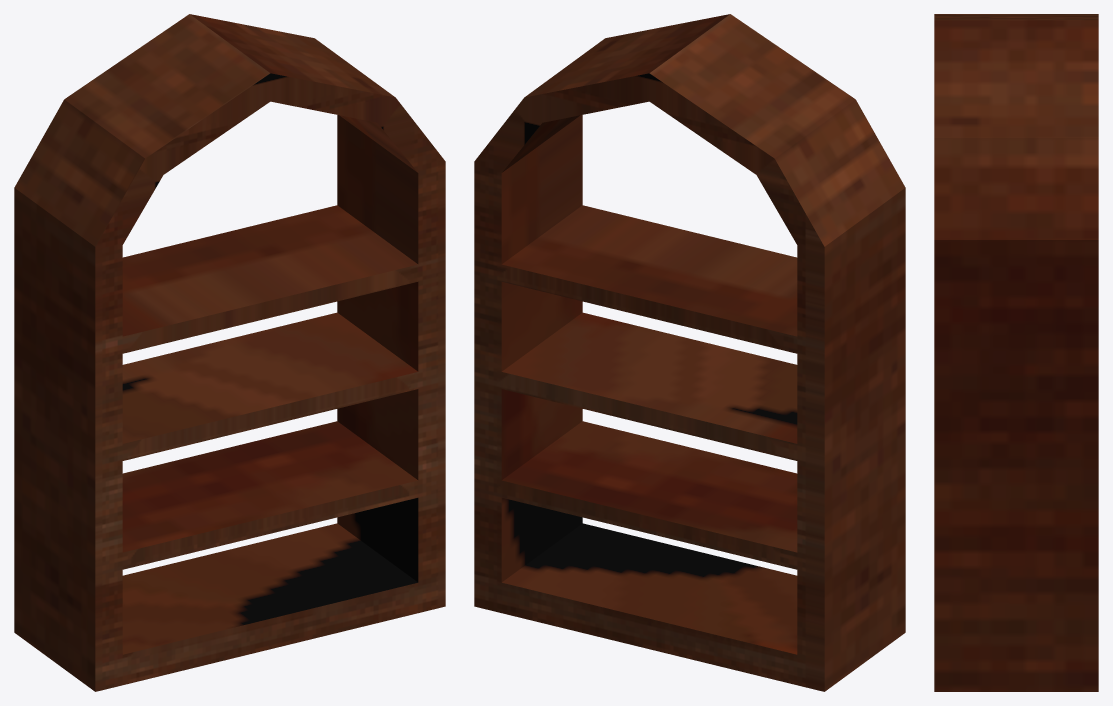
Rendered from estanteP.glb.
3 renders of one model, left to right at view 1: azimuth 30°, elevation 25°; view 2: azimuth 150°, elevation 25°; view 3: azimuth 270°, elevation 25°, orthographic.
Visible parts, largest first — view 1: bookshelf_02; view 2: bookshelf_02; view 3: bookshelf_02.
Boxes of the visible parts, x1,y1,x2,y2 form: bookshelf_02: [14, 14, 445, 691]; bookshelf_02: [474, 14, 905, 691]; bookshelf_02: [934, 14, 1098, 691].
Bounding box in the file's own units: 1.98 × 3.11 × 0.7932.
1 material, 1 textured.
